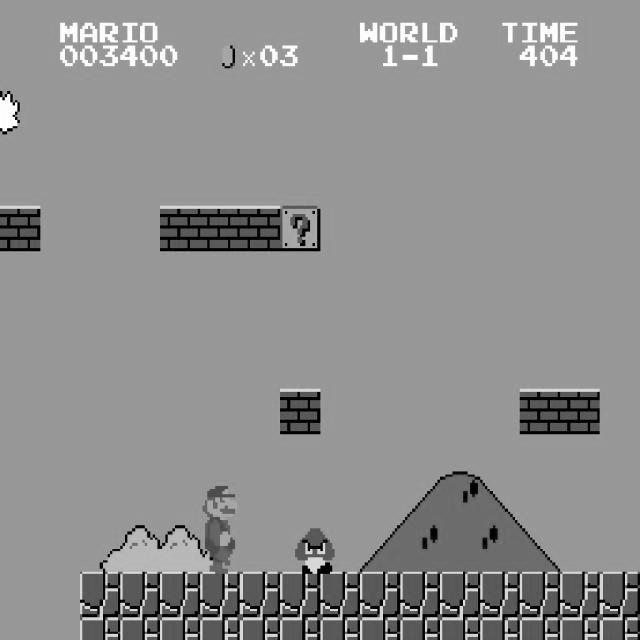0- big_mario: (197, 480, 240, 574)
1- brick_block: (0, 205, 40, 251), (280, 388, 320, 434), (520, 388, 560, 434), (560, 388, 600, 434), (160, 206, 200, 251), (200, 206, 240, 251), (240, 206, 280, 251)
13- mystery_block: (280, 206, 320, 251)
17- undestructible_block: (599, 571, 640, 617), (80, 572, 120, 618), (120, 572, 160, 618), (160, 572, 200, 618), (200, 572, 240, 618), (240, 572, 280, 618), (280, 572, 320, 618), (320, 572, 360, 618), (360, 572, 400, 618), (400, 572, 440, 618), (440, 572, 480, 618), (480, 572, 520, 618), (520, 572, 560, 618), (560, 572, 600, 618), (80, 617, 120, 640), (120, 617, 160, 640), (160, 617, 200, 640), (200, 617, 240, 640), (240, 617, 280, 640), (280, 617, 320, 640), (320, 617, 360, 640), (360, 617, 400, 640), (400, 617, 440, 640), (440, 617, 480, 640), (480, 617, 520, 640), (520, 617, 560, 640), (560, 617, 600, 640), (599, 617, 640, 639)
8- goomba: (292, 526, 335, 574)
